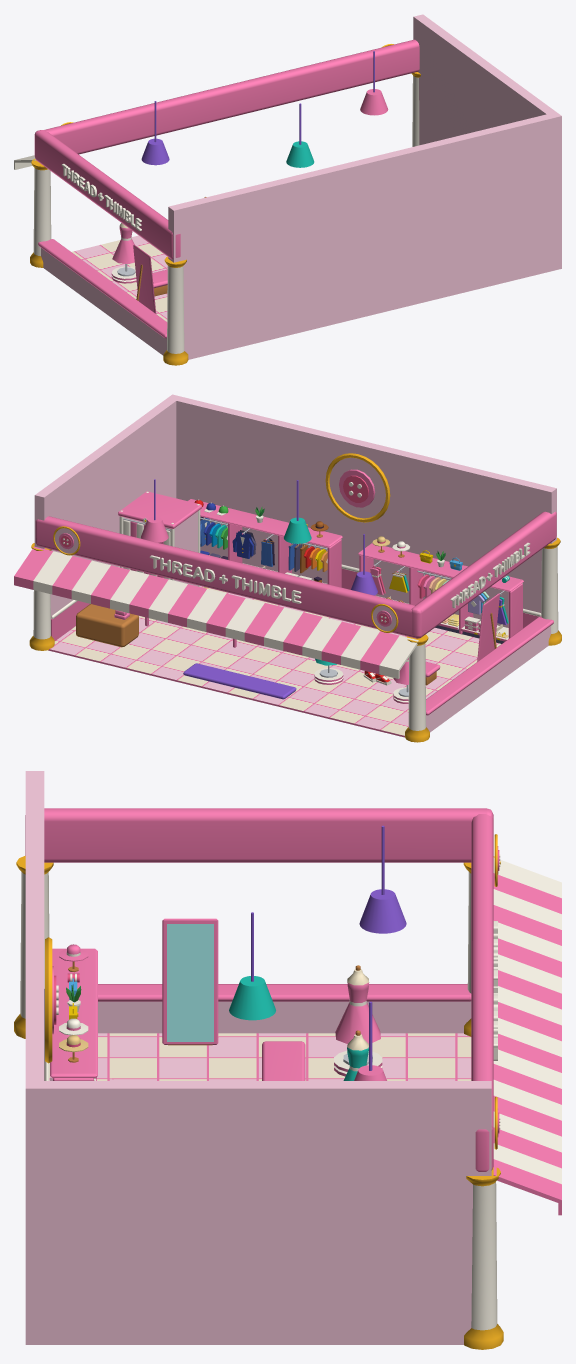
File: thread_and_thimble.glb
3 views of the same model, one above another, from view 1: azimuth 30°, elevation 25°; view 2: azimuth 150°, elevation 25°; view 3: azimuth 270°, elevation 25° (orthographic). The views are drawn at different scales.
Parts seen in each view (by area): view 1: Shop_Thread_Back_Wall, Shop_Thread_Front_Canopy, Shop_Thread_Shell, Shop_Thread_Side_Wall, M_Thread_Mannequins, M_Thread_Mirror, Thread_Pendant_Shade_1, Thread_Pendant_Shade_2, Thread_Pendant_Shade_0; view 2: Shop_Thread_Back_Wall, Shop_Thread_Front_Canopy, Shop_Thread_Shell, Shop_Thread_Side_Wall, M_Thread_Menswear, M_Thread_Womenswear, M_Thread_Fitting, Refined_Thread_Checkout, Refined_Thread_Entry_Mat, M_Thread_Mannequins, M_Thread_Mirror, Thread_Pendant_Shade_1 (+3 smaller); view 3: Shop_Thread_Side_Wall, Shop_Thread_Front_Canopy, Shop_Thread_Shell, Shop_Thread_Back_Wall, M_Thread_Mirror, M_Thread_Womenswear, M_Thread_Mannequins, M_Thread_Bench, Thread_Pendant_Shade_0, Thread_Pendant_Shade_1.
Part boxes in pixels (x1,y1,x2,y2): Shop_Thread_Back_Wall: (168,112,561,359); Shop_Thread_Front_Canopy: (14,39,419,259); Shop_Thread_Shell: (30,72,420,365); Shop_Thread_Side_Wall: (413,14,555,145); M_Thread_Mannequins: (111,197,206,283); M_Thread_Mirror: (133,245,156,313); Thread_Pendant_Shade_1: (286,141,314,167); Thread_Pendant_Shade_2: (360,89,388,115); Thread_Pendant_Shade_0: (141,138,169,165); Shop_Thread_Back_Wall: (167,394,556,627); Shop_Thread_Front_Canopy: (14,511,556,678); Shop_Thread_Shell: (29,537,561,742); Shop_Thread_Side_Wall: (34,398,176,640); M_Thread_Menswear: (188,499,342,587); M_Thread_Womenswear: (358,536,523,643); M_Thread_Fitting: (118,491,201,586); Refined_Thread_Checkout: (76,604,138,647); Refined_Thread_Entry_Mat: (183,663,296,699); M_Thread_Mannequins: (314,658,408,703); M_Thread_Mirror: (477,593,499,661); Thread_Pendant_Shade_1: (284,517,311,543); Shop_Thread_Side_Wall: (44,1081,491,1344); Shop_Thread_Front_Canopy: (25,808,561,1215); Shop_Thread_Shell: (14,856,503,1349); Shop_Thread_Back_Wall: (25,771,58,1344); M_Thread_Mirror: (162,918,218,1045); M_Thread_Womenswear: (50,944,97,1080); M_Thread_Mannequins: (334,965,382,1080); M_Thread_Bench: (262,1041,305,1080); Thread_Pendant_Shade_0: (359,889,406,933); Thread_Pendant_Shade_1: (229,976,275,1020).
Size of the model in its own units: 12.48 by 4.87 by 8.82.
30 materials, 1 textured.
